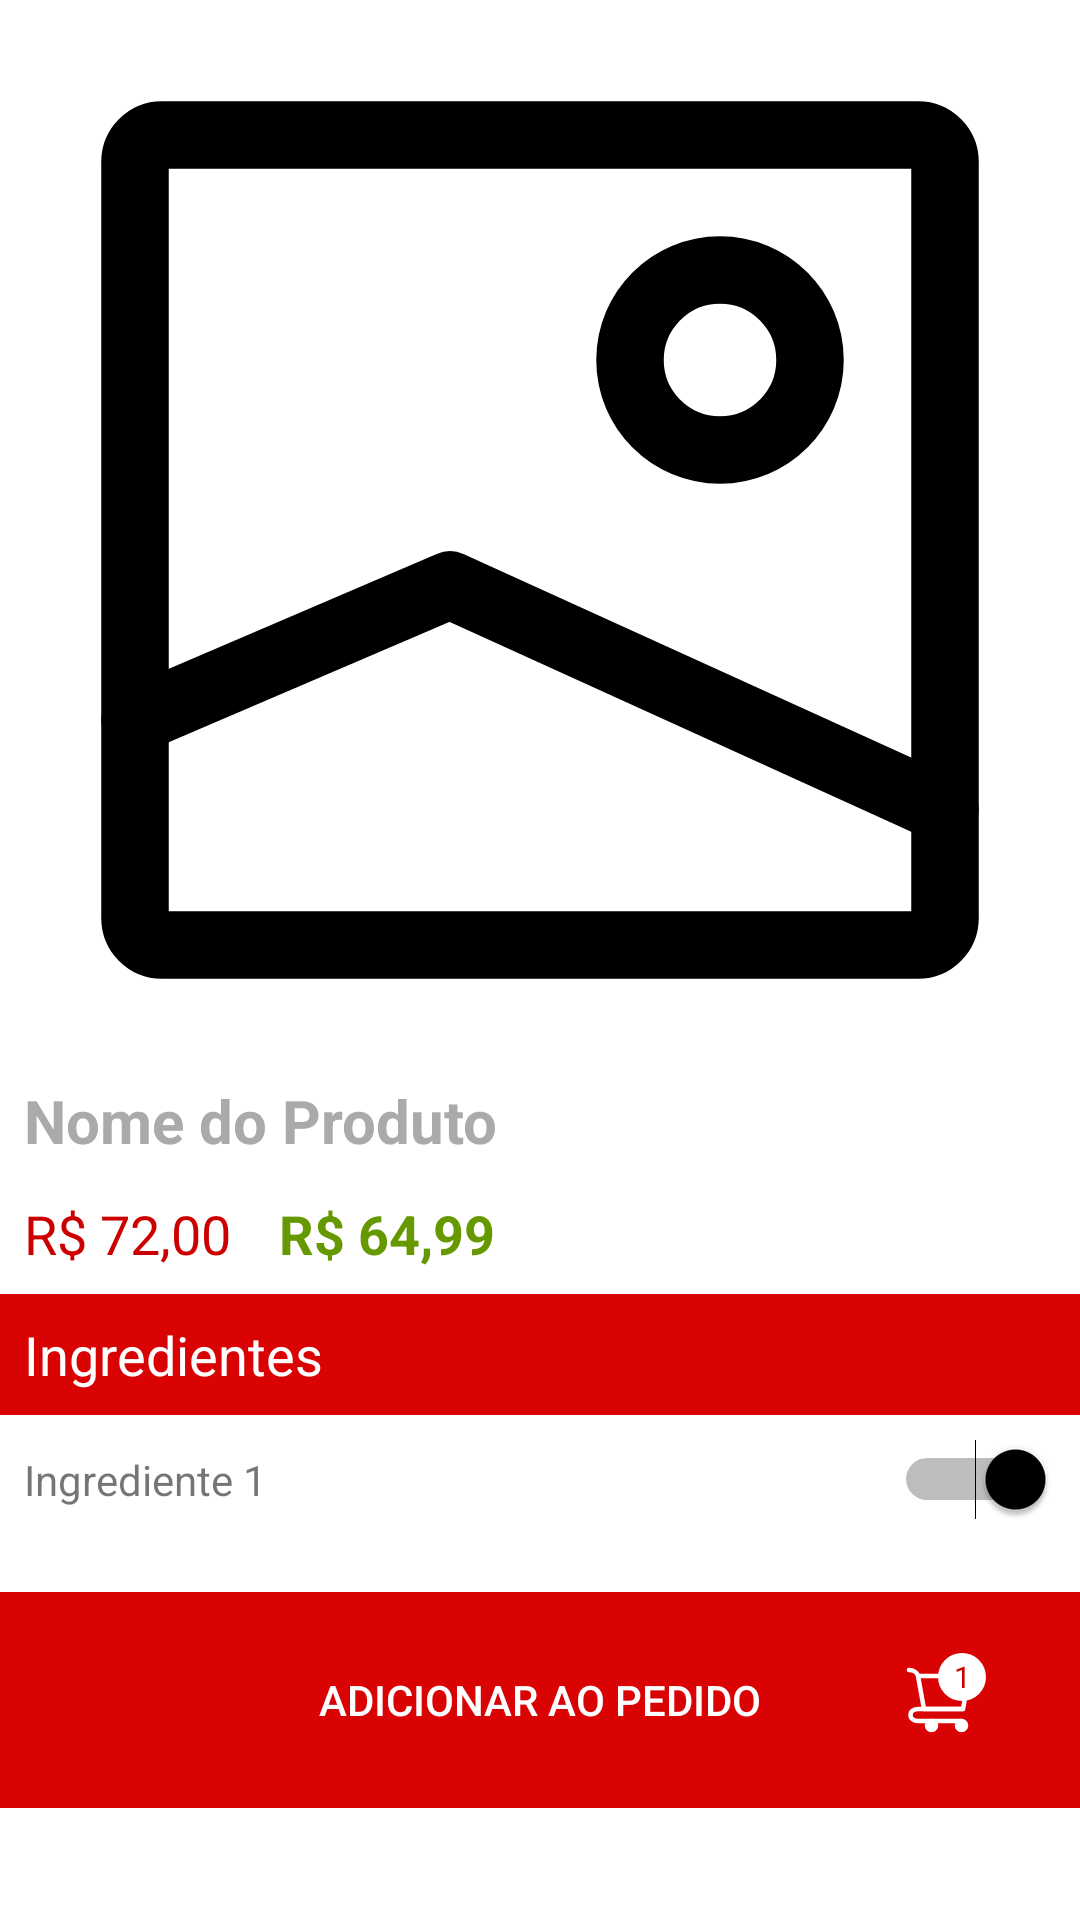

Screen size 1080*1920. Icon name, then its box in pixels as Rect(x1, y1, x2, y2):
Carrinho: Rect(906, 1664, 975, 1733)
